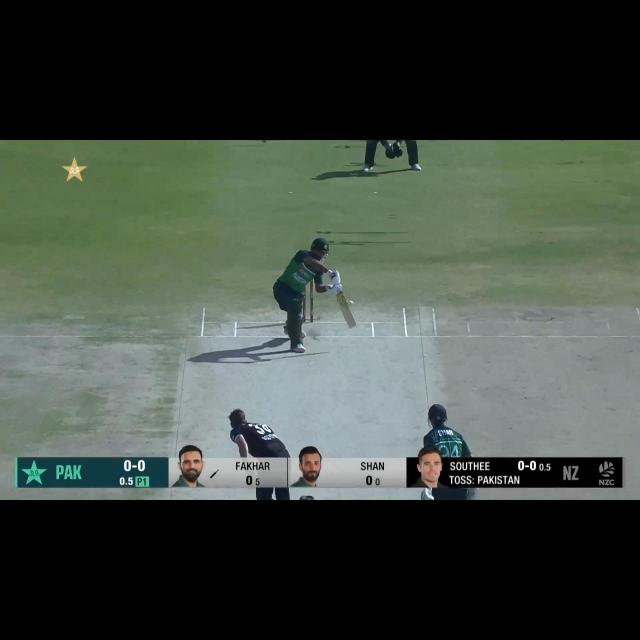bat: (337, 292, 357, 330)
toe: (348, 320, 357, 329)
